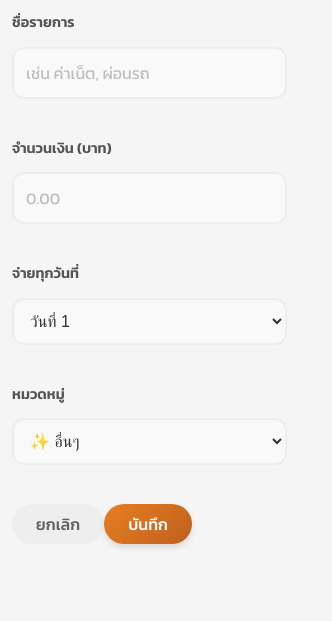
BillBookForm Component › shows error when amount is too high
Type "Valid Name" into the field labelled "ชื่อรายการ" at (150, 73), box [12,47,287,99]
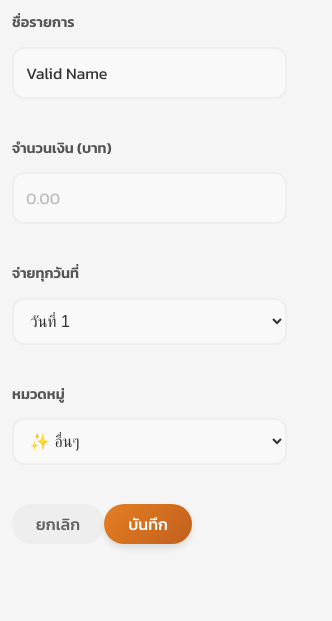
Type "1000001" into the number field labelled "จำนวนเงิน (บาท)" at (150, 198), box [12,172,287,224]
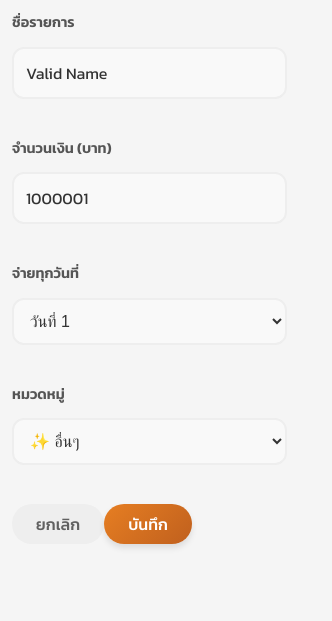
Click the button "บันทึก" at (148, 524), box [104,504,192,544]
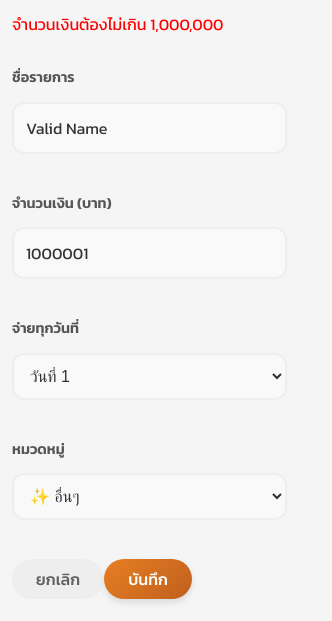
Check: the text "จำนวนเงินต้องไม่เกิน 1,000,000" is shown, box [12,12,224,36]
